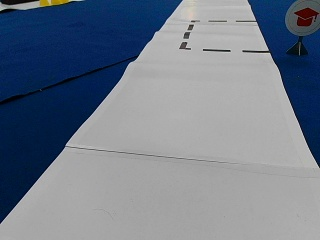school: (284, 1, 319, 35)
